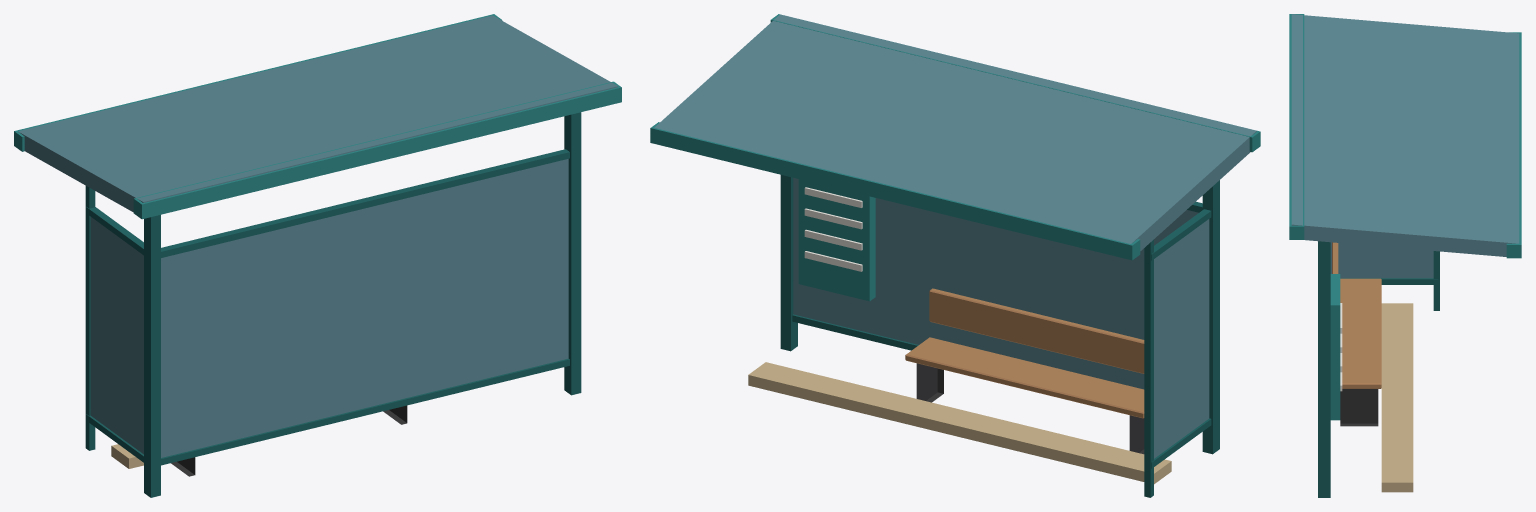
The model's file is tram_shelter.glb.
The picture shows the model from 3 angles, left to right: view 1: azimuth 30°, elevation 25°; view 2: azimuth 150°, elevation 25°; view 3: azimuth 270°, elevation 25°; orthographic projection. The views are drawn at different scales.
Parts seen in each view (by area): view 1: shelter; view 2: shelter; view 3: shelter.
Boxes of the visible parts, x1,y1,x2,y2 form: shelter: (14, 14, 621, 497); shelter: (650, 14, 1260, 497); shelter: (1289, 14, 1521, 497).
Size of the model in its own units: 4.75 by 2.95 by 2.19.
